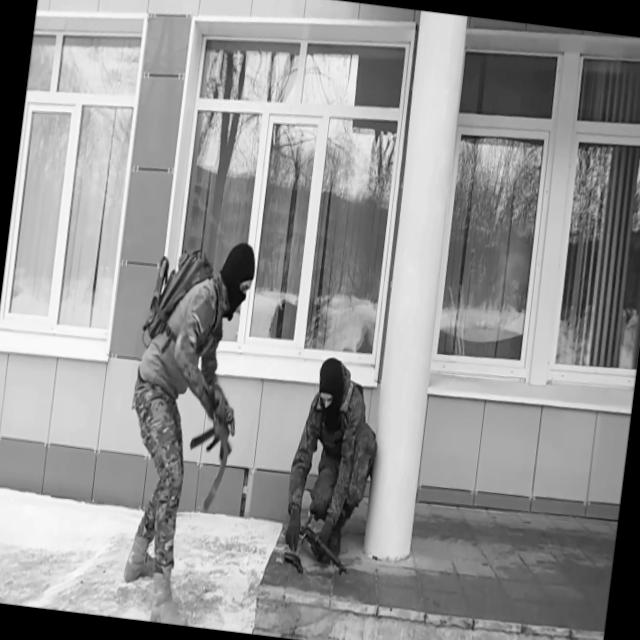gun: (187, 390, 240, 467), (290, 521, 354, 578), (280, 549, 306, 577)
person: (104, 228, 258, 629)
person with a gun: (105, 228, 258, 629), (278, 352, 388, 580)
